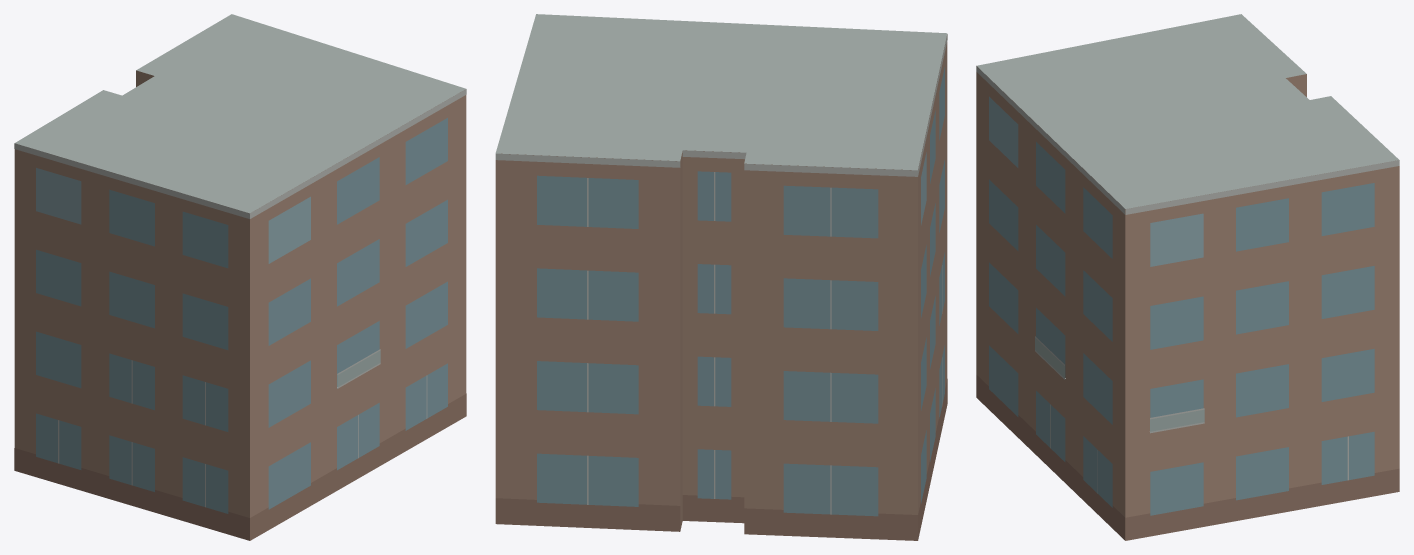
File: survey-upis-32741501.glb
3 views of the same model, side by side, from view 1: azimuth 30°, elevation 25°; view 2: azimuth 150°, elevation 25°; view 3: azimuth 270°, elevation 25° (orthographic). The views are drawn at different scales.
Visible parts, largest first — view 1: survey-upis-32741501.tmp; view 2: survey-upis-32741501.tmp; view 3: survey-upis-32741501.tmp.
Boxes of the visible parts, bbox=[...] form: survey-upis-32741501.tmp: bbox=[14, 14, 466, 540]; survey-upis-32741501.tmp: bbox=[495, 14, 947, 540]; survey-upis-32741501.tmp: bbox=[976, 14, 1399, 540].
Size of the model in its own units: 17.35 by 13.75 by 15.9.
